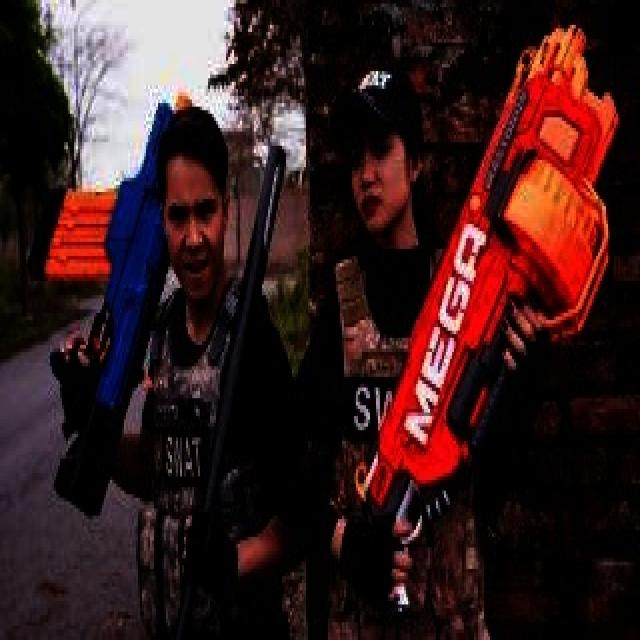Nerf gun: (353, 25, 619, 572), (25, 78, 211, 519)
